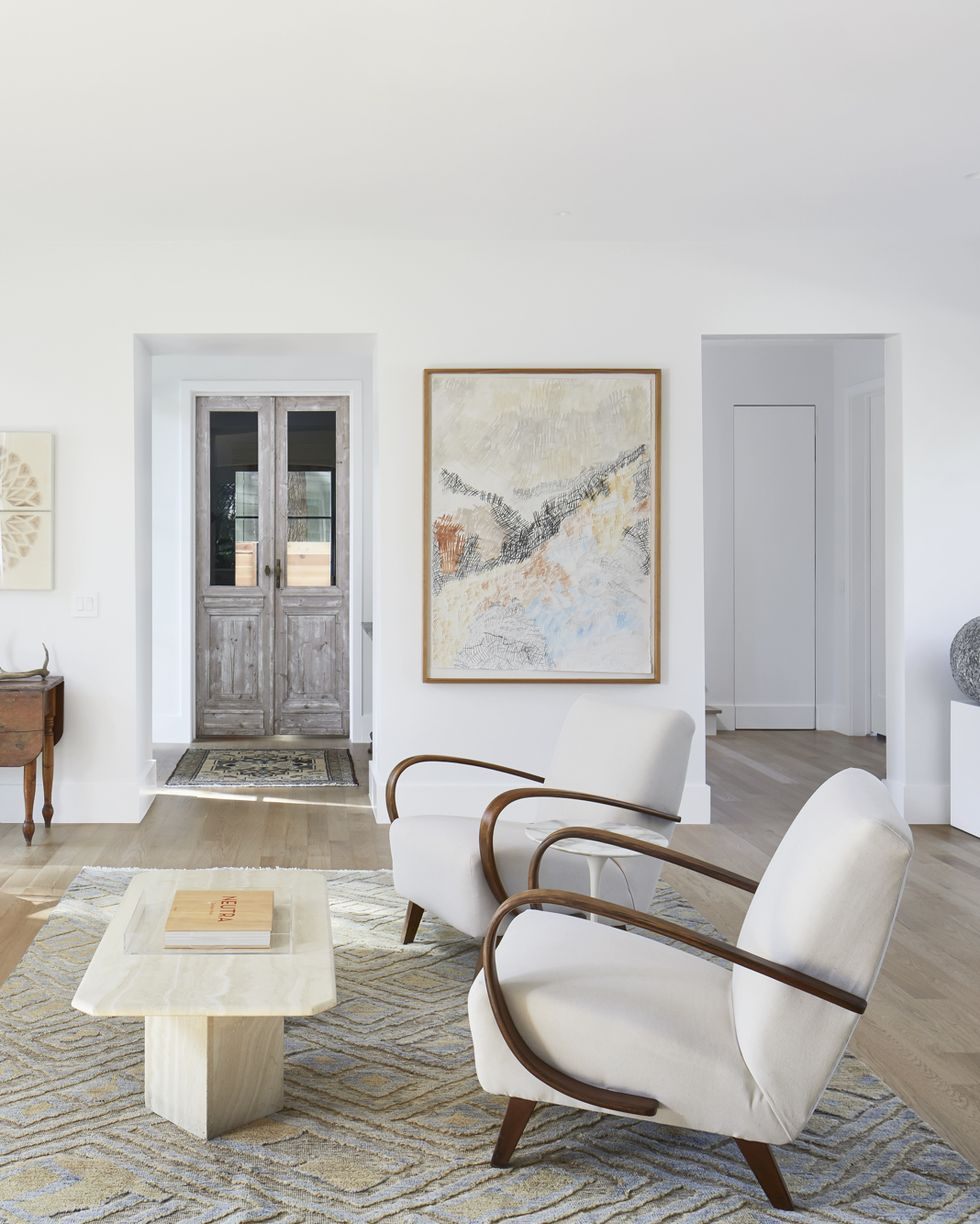Chair: (456, 760, 918, 1203), (367, 699, 718, 964)
Painting: (414, 359, 665, 692)
Table: (65, 861, 340, 1150)
